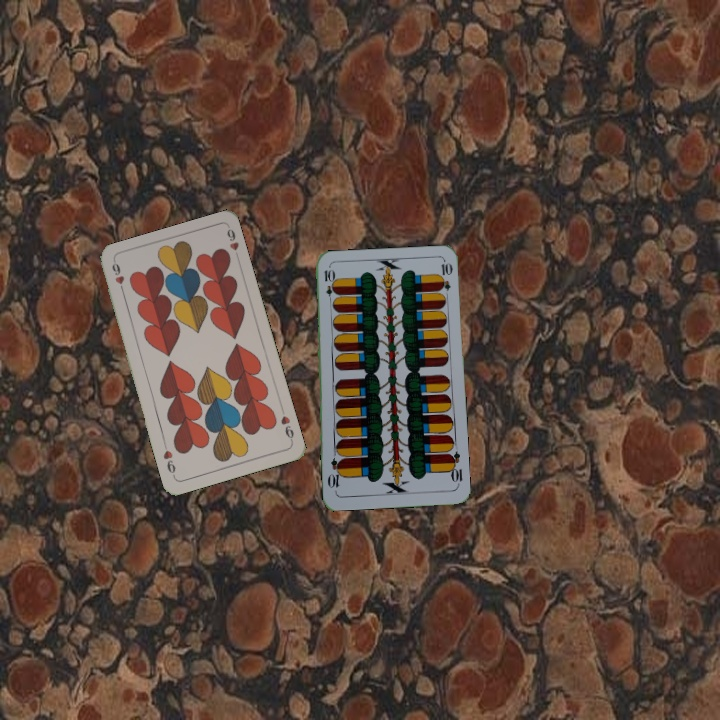E10: (444, 448, 465, 488), (320, 265, 336, 306)
H9: (277, 405, 296, 445), (108, 258, 127, 298)
